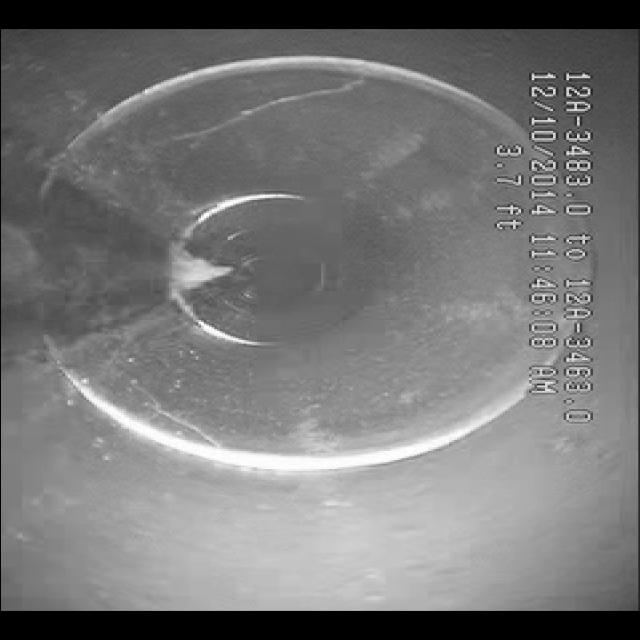Crack: (182, 80, 352, 148)
